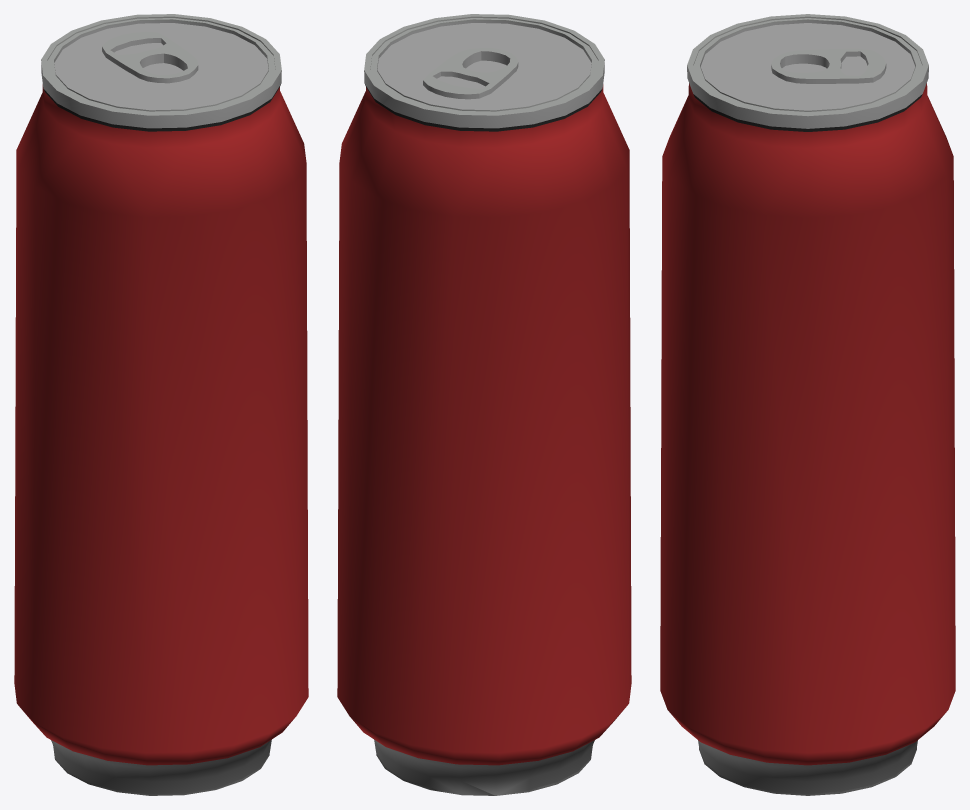
The model's file is blimp_body_cola_v4.dae.
3 views of the same model, side by side, from view 1: azimuth 30°, elevation 25°; view 2: azimuth 150°, elevation 25°; view 3: azimuth 270°, elevation 25° (orthographic).
Parts seen in each view (by area): view 1: pCylinder1; view 2: pCylinder1; view 3: pCylinder1.
Part boxes in pixels (x1=…): pCylinder1: x1=14, y1=14, x2=308, y2=795; pCylinder1: x1=337, y1=14, x2=631, y2=795; pCylinder1: x1=660, y1=14, x2=955, y2=795.
Bounding box in the file's own units: 196 × 196 × 503.
